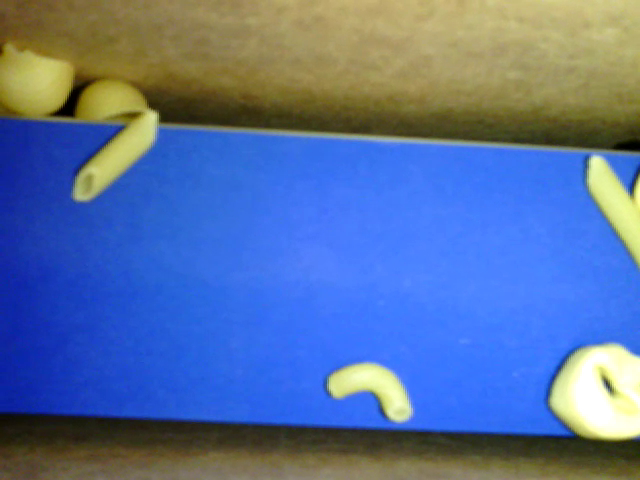elbow: (327, 363, 413, 423)
penne: (71, 110, 157, 202), (586, 154, 639, 266)
shell: (1, 43, 73, 115), (76, 79, 150, 122)
tortellini: (548, 341, 639, 440)
